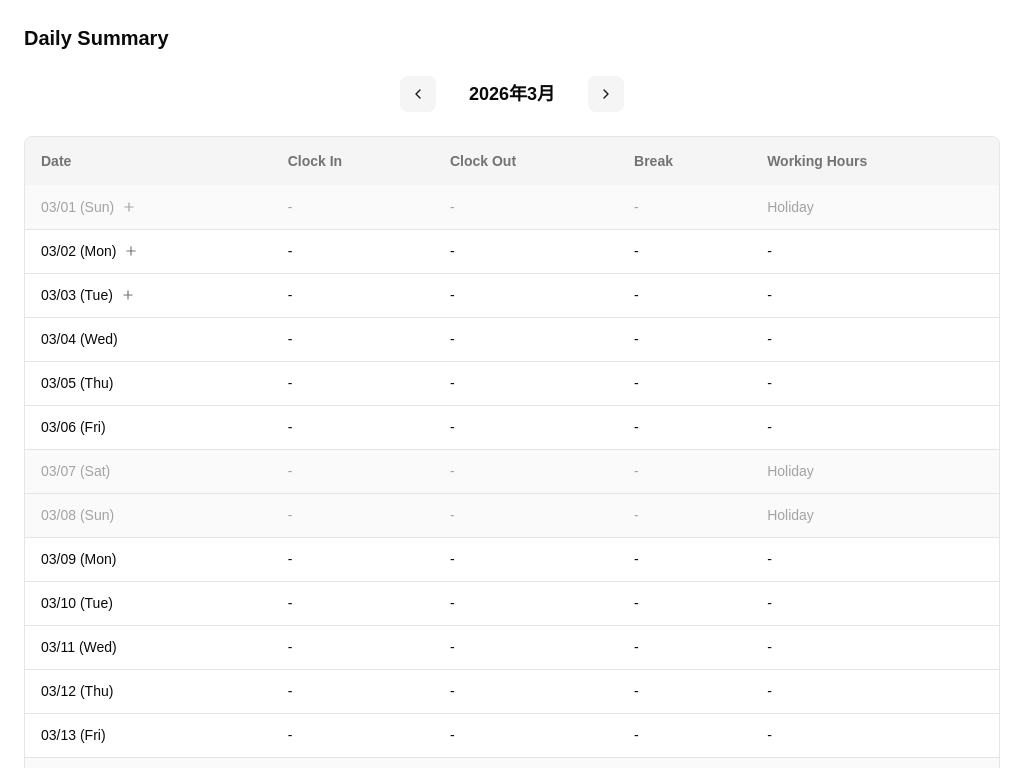
DailySummaryPanel › add session button for empty past dates › opens add session dialog when add button is clicked
Click the button named "add session" next to "03/01 (Sun)": (129, 207) [120,198,138,216]
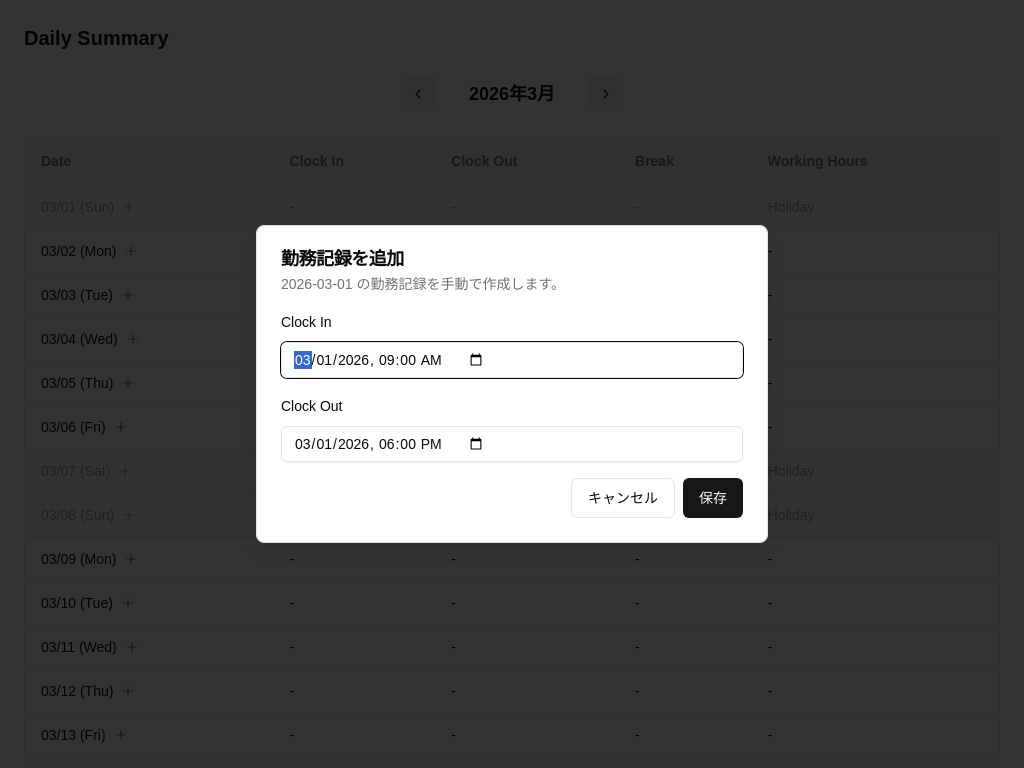
expect the heading "勤務記録を追加" is shown: met, box [281,249,404,269]
